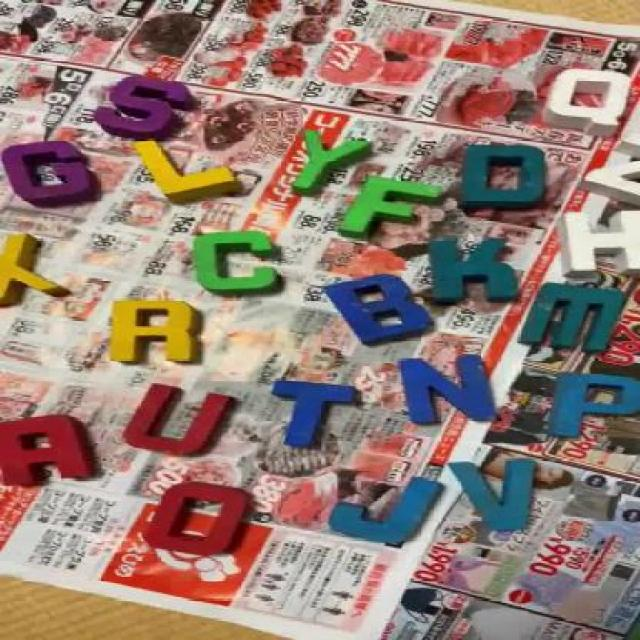A: (1, 418, 97, 489)
B: (327, 276, 438, 338)
C: (192, 229, 280, 294)
D: (458, 147, 548, 207)
F: (345, 178, 440, 232)
G: (9, 139, 100, 207)
H: (552, 212, 639, 271)
J: (332, 479, 446, 541)
K: (432, 237, 513, 300)
L: (135, 141, 242, 201)
M: (528, 283, 623, 348)
N: (397, 355, 498, 423)
O: (147, 481, 253, 553)
P: (542, 369, 640, 431)
Q: (537, 71, 629, 132)
R: (114, 298, 195, 364)
S: (97, 74, 186, 134)
T: (272, 378, 358, 444)
U: (118, 386, 244, 452)
V: (450, 460, 538, 529)
Y: (288, 129, 369, 188)
